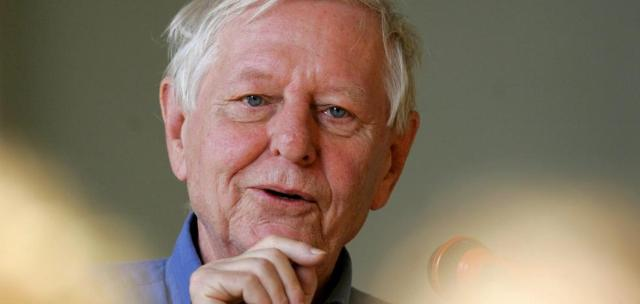chin: (256, 212, 294, 230)
crows_feet: (353, 115, 373, 138), (212, 94, 234, 110)
frown_line: (278, 76, 294, 98), (308, 66, 320, 88)
gummy_smile: (232, 138, 268, 176), (312, 143, 334, 191)
sad_smile: (312, 206, 332, 250), (227, 190, 247, 222)
